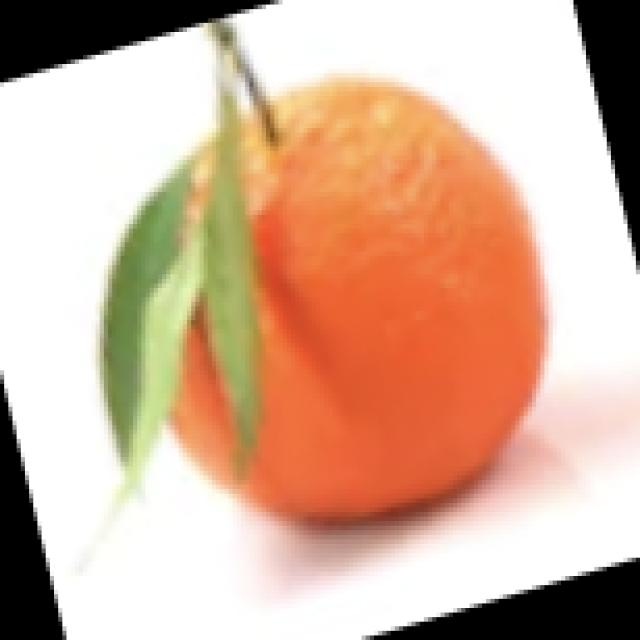matang: (176, 78, 545, 520)
